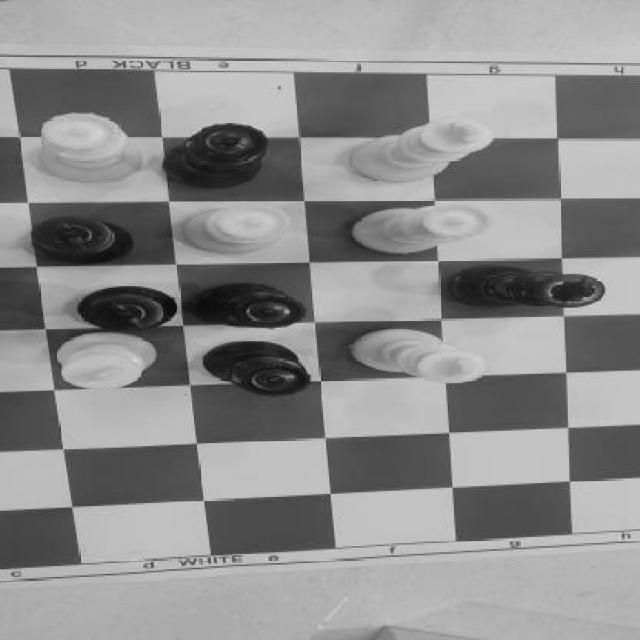black-king: (444, 264, 606, 309), (30, 217, 135, 264), (76, 287, 178, 333)
black-queen: (163, 121, 269, 190), (204, 339, 312, 398), (192, 282, 311, 331)
white-king: (351, 116, 496, 184), (350, 328, 487, 387), (55, 334, 159, 392)
white-queen: (38, 111, 144, 185), (166, 200, 294, 260), (352, 200, 488, 254)
